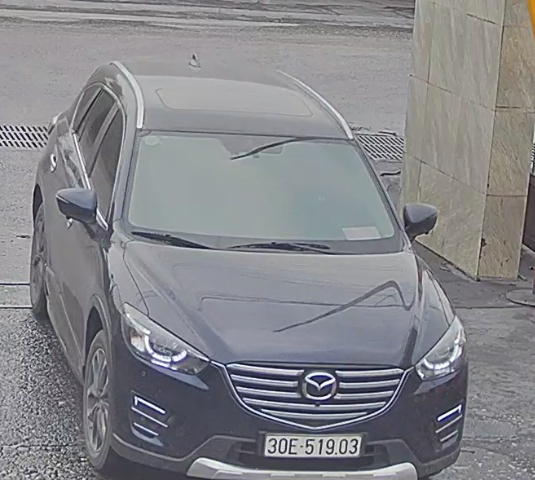vehicle plate: (256, 427, 361, 462)
